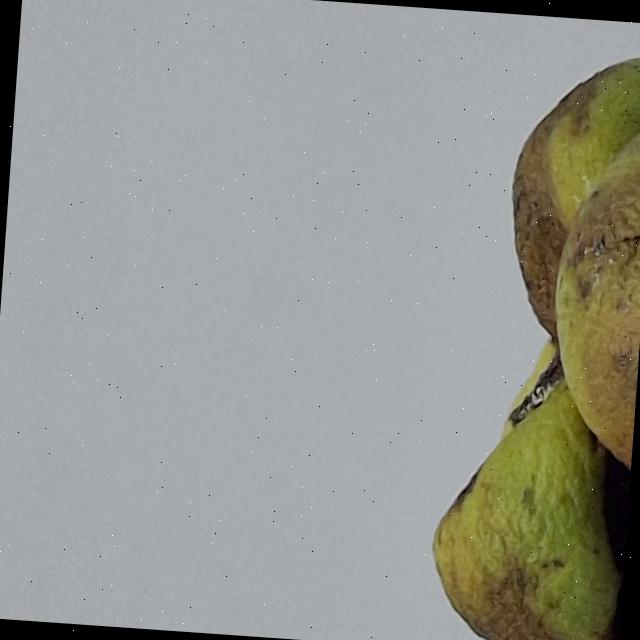mangosteen: (387, 7, 640, 640)
